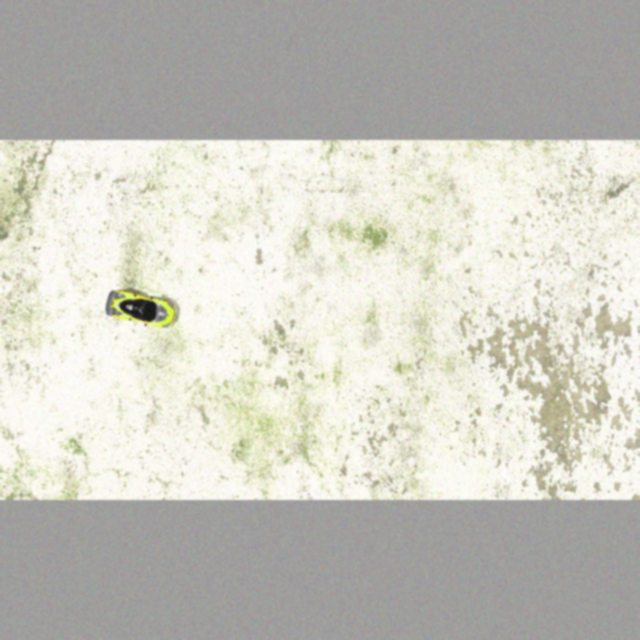car: (102, 286, 179, 330)
